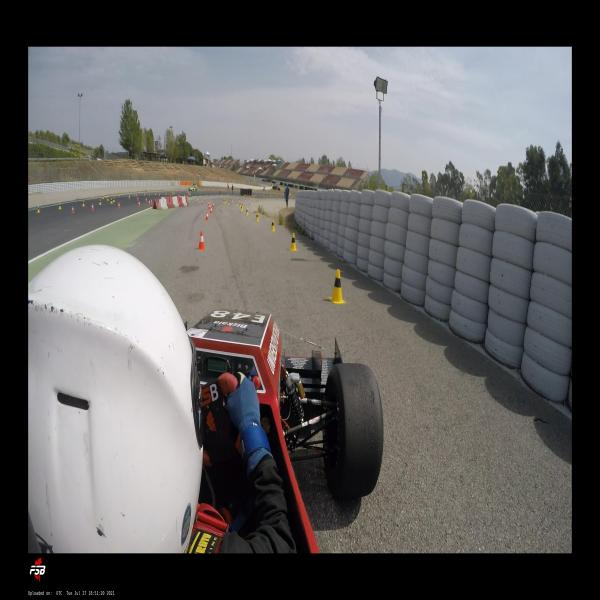orange_cone: (198, 230, 206, 251), (209, 206, 213, 214), (205, 212, 209, 220), (71, 206, 75, 214), (117, 202, 121, 209), (91, 204, 95, 211), (128, 195, 131, 200), (136, 196, 138, 202), (148, 200, 150, 206), (145, 197, 147, 203), (212, 202, 214, 208), (138, 200, 140, 206), (150, 198, 152, 204), (196, 198, 198, 203), (202, 200, 204, 204), (209, 204, 210, 209), (208, 200, 209, 205), (204, 198, 205, 202)
yellow_cone: (327, 269, 346, 304), (288, 232, 297, 251), (270, 219, 276, 231), (255, 212, 259, 221), (37, 206, 41, 213), (59, 203, 62, 210), (82, 199, 85, 206), (110, 198, 113, 204), (99, 199, 102, 205), (106, 196, 109, 201), (112, 197, 115, 202), (246, 208, 248, 215), (241, 205, 243, 211), (236, 201, 238, 206), (225, 198, 227, 203), (223, 198, 225, 203), (105, 193, 107, 198), (102, 195, 104, 199), (224, 200, 226, 204), (228, 201, 230, 205), (239, 202, 241, 206), (231, 198, 233, 202), (118, 192, 120, 196), (239, 198, 240, 202)
